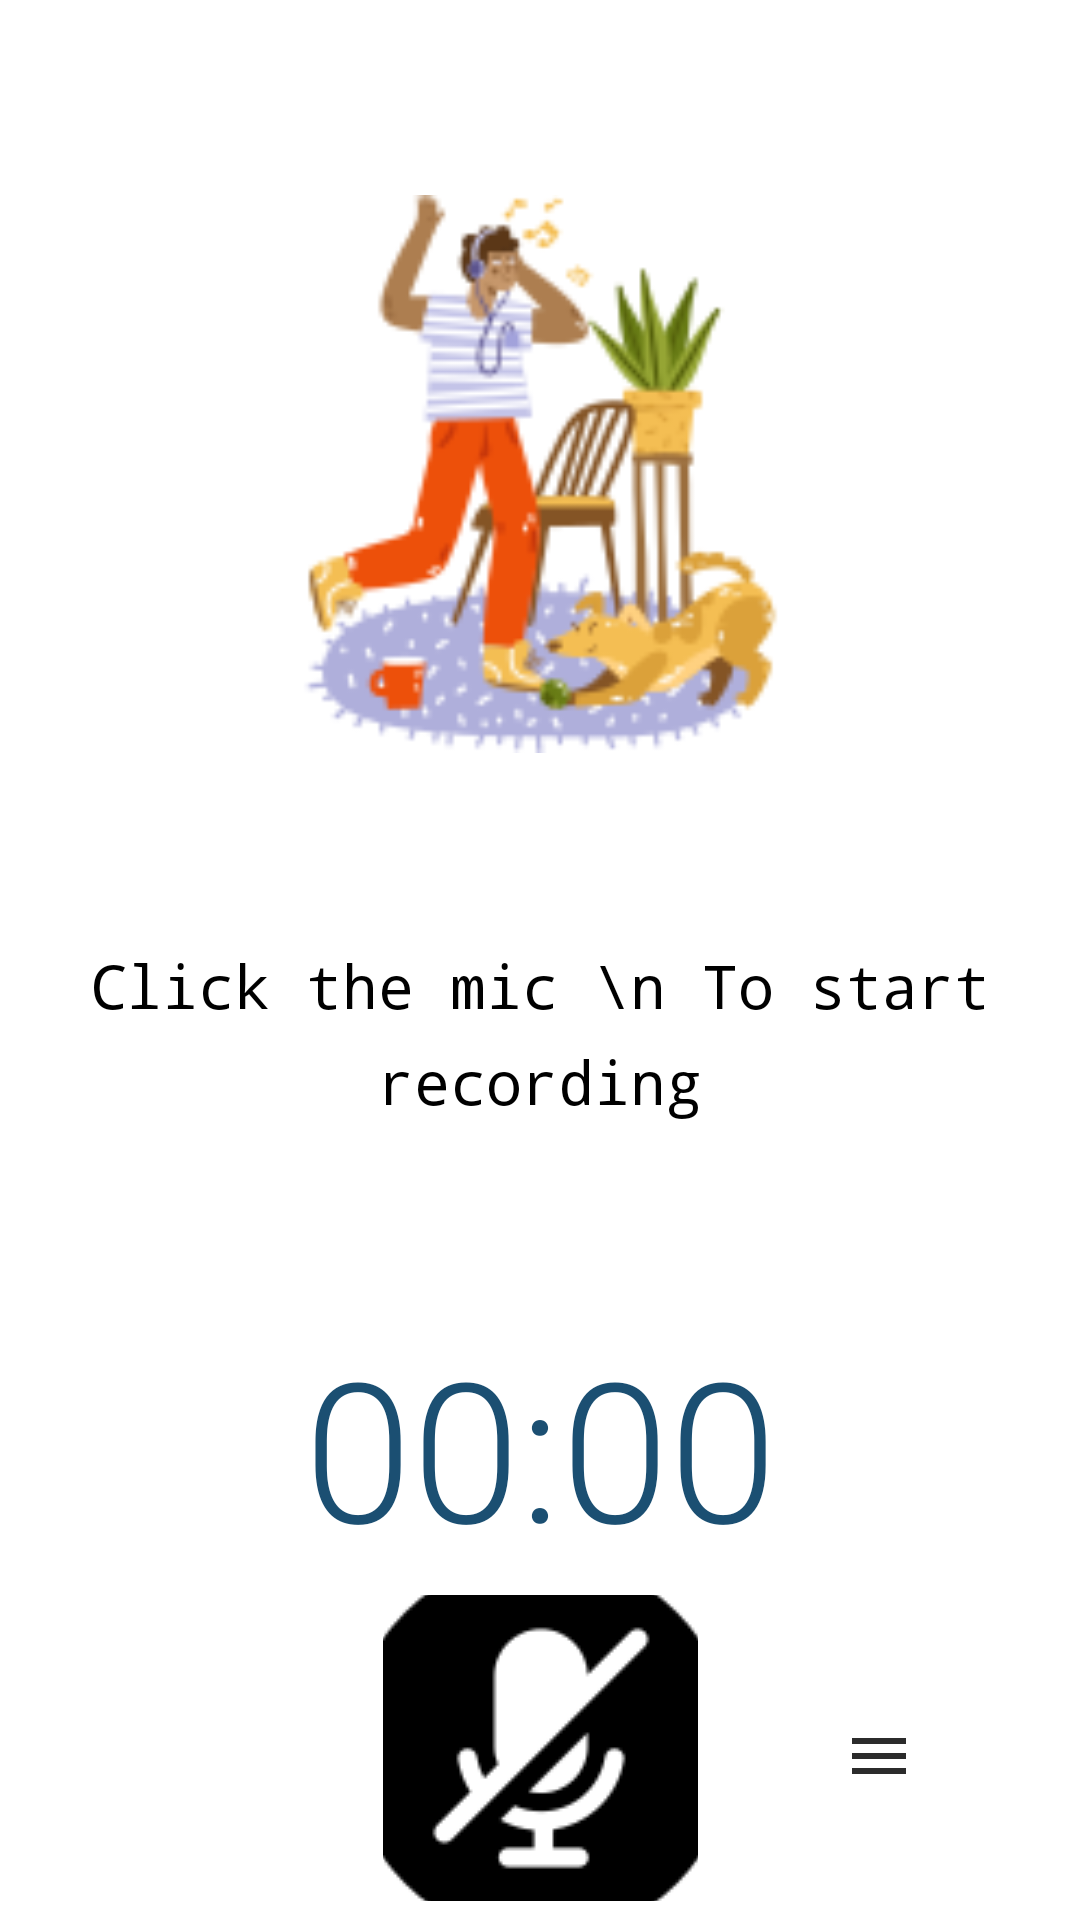

Named icons in this screenshot (1080x1920) and their bounding boxes, (x1, y1, x2, y2):
list: (852, 1738, 906, 1774)
voice: (383, 1595, 698, 1901)
